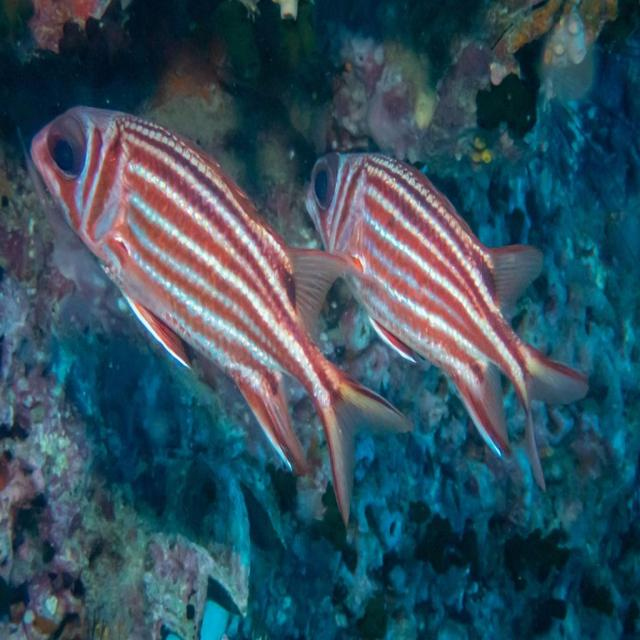Asker Baligi: (28, 101, 415, 528), (302, 147, 590, 494)
